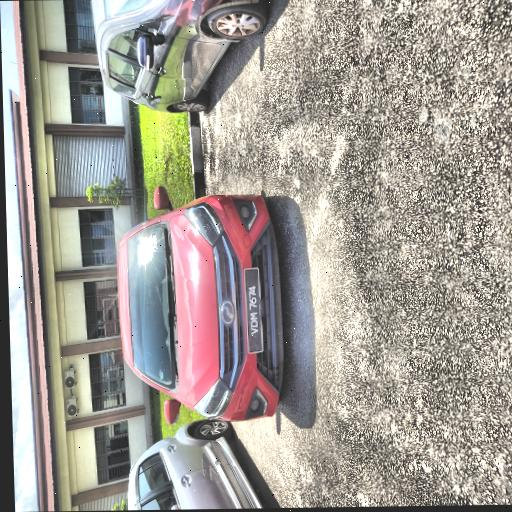license_plate: (240, 265, 262, 354)
